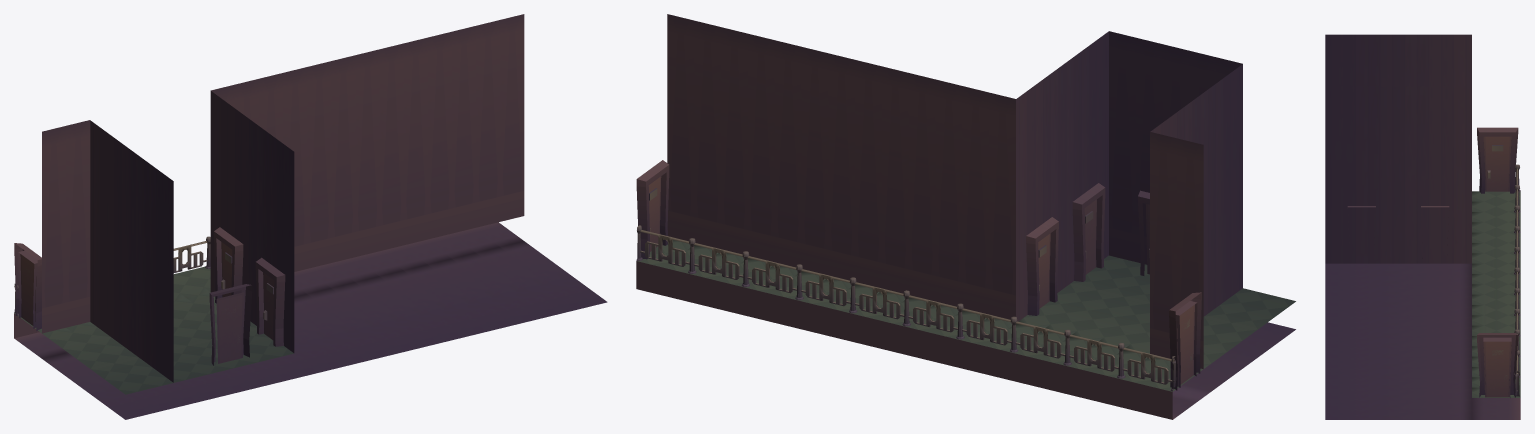
The model's file is SM_Room1Level2.fbx.
The picture shows the model from 3 angles, left to right: view 1: azimuth 30°, elevation 25°; view 2: azimuth 150°, elevation 25°; view 3: azimuth 270°, elevation 25°; orthographic projection. The views are drawn at different scales.
Visible parts, largest first — view 1: SM_BackgroundPlane.018; view 2: SM_BackgroundPlane.018; view 3: SM_BackgroundPlane.018.
Boxes of the visible parts, bbox=[...] form: SM_BackgroundPlane.018: bbox=[14, 14, 607, 419]; SM_BackgroundPlane.018: bbox=[636, 14, 1295, 419]; SM_BackgroundPlane.018: bbox=[1325, 34, 1520, 419].
Bounding box in the file's own units: 2021 × 800 × 900.
